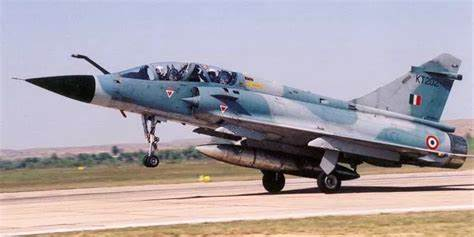Aeronef_militaire: (5, 38, 473, 197)
